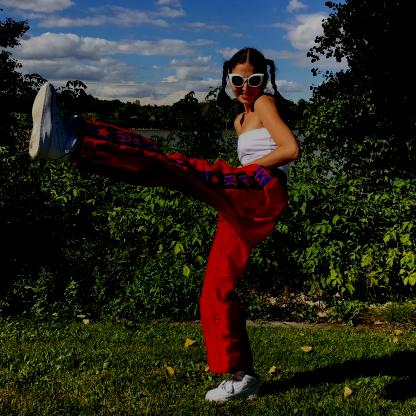dress: (68, 122, 289, 374)
jacket: (236, 127, 289, 177)
